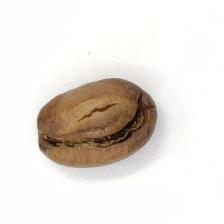NG: (43, 93, 155, 153)
